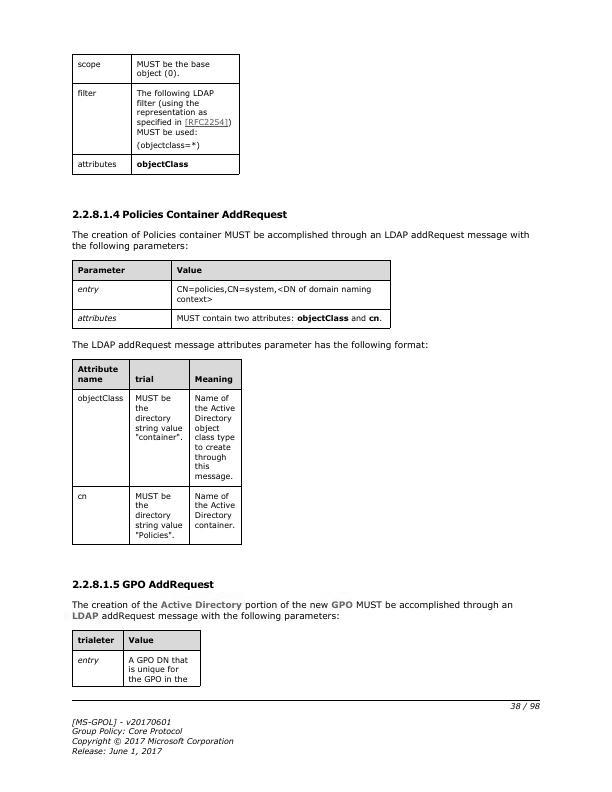table: (72, 359, 242, 545), (73, 260, 392, 329), (71, 53, 241, 175), (71, 630, 202, 687)
text: (71, 598, 514, 622), (71, 228, 532, 251), (68, 713, 235, 756), (70, 338, 432, 351), (69, 207, 289, 220), (69, 576, 216, 591)
